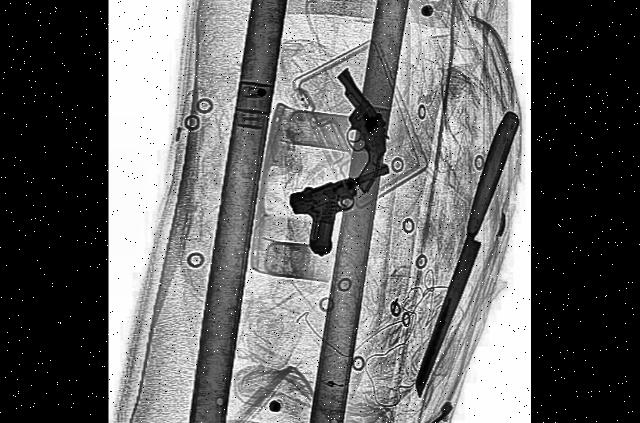Gun: (288, 157, 396, 262), (312, 60, 396, 195)
Knife: (407, 102, 522, 402)
